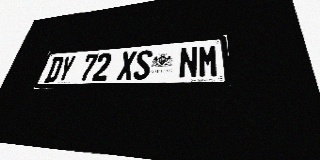2: (92, 53, 113, 81)
7: (78, 54, 99, 82)
D: (44, 57, 65, 83)
M: (198, 44, 219, 78)
N: (178, 46, 198, 79)
S: (133, 49, 153, 80)
X: (117, 51, 137, 81)
Y: (56, 56, 77, 82)
